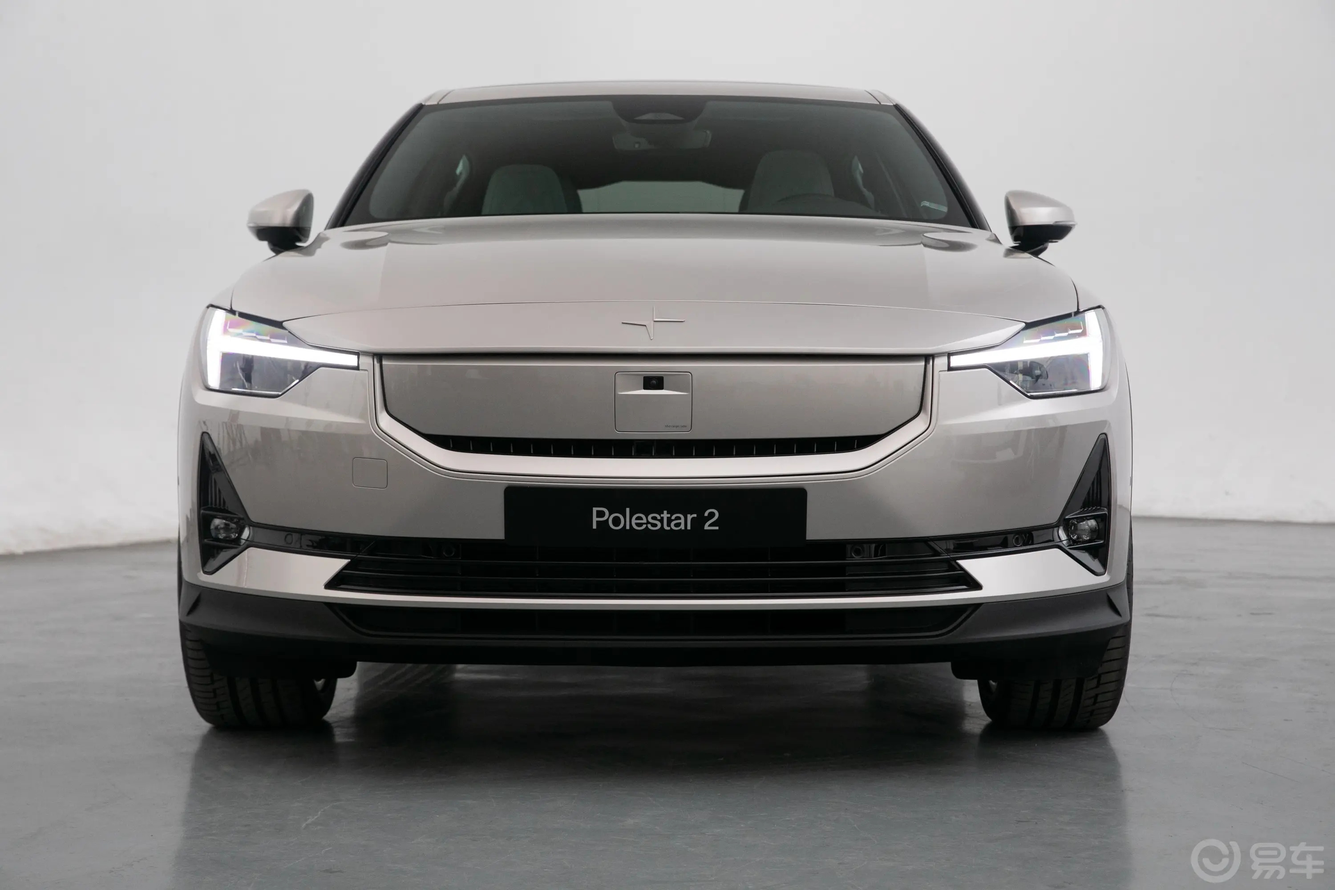Polestar: (622, 306, 685, 340)
